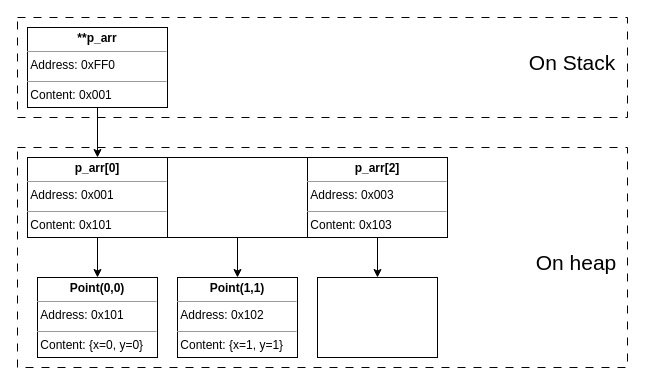
Some shapes in this 645 by 385 pixel diagram are drawn without their labels. The shapes that lost their labels are listed below. From the top down, each one's centre as x and y in pixels, then its label:
[237,197]: p_arr[1] Address: 0x002 Content: 0x102
[377,317]: Point(2, 2) Address: 0x103 Content: {x=2, y=2}
